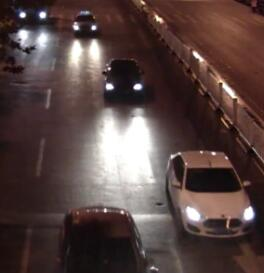car: (164, 147, 256, 245), (61, 205, 151, 269), (99, 52, 145, 104), (70, 7, 100, 37), (14, 4, 50, 23)
